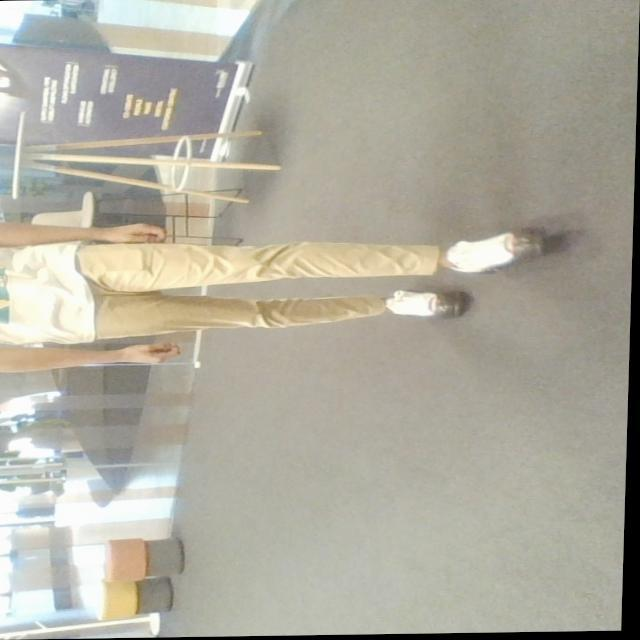shoes: (434, 216, 550, 288), (382, 280, 468, 326)
